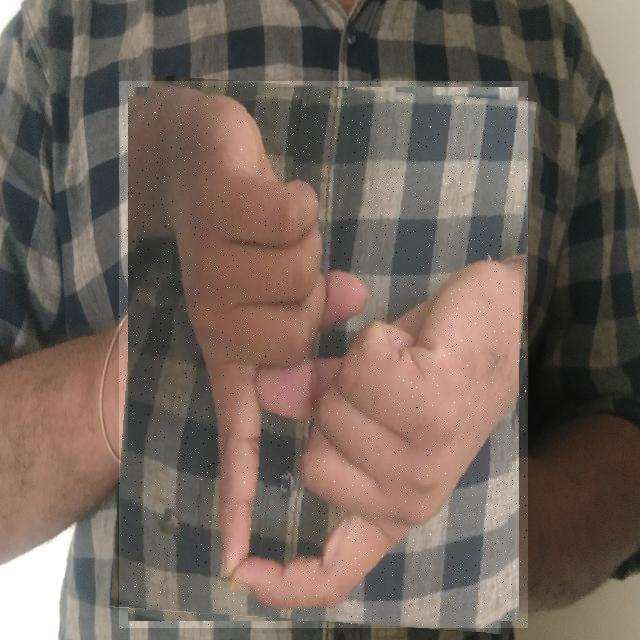D: (119, 81, 528, 628)
